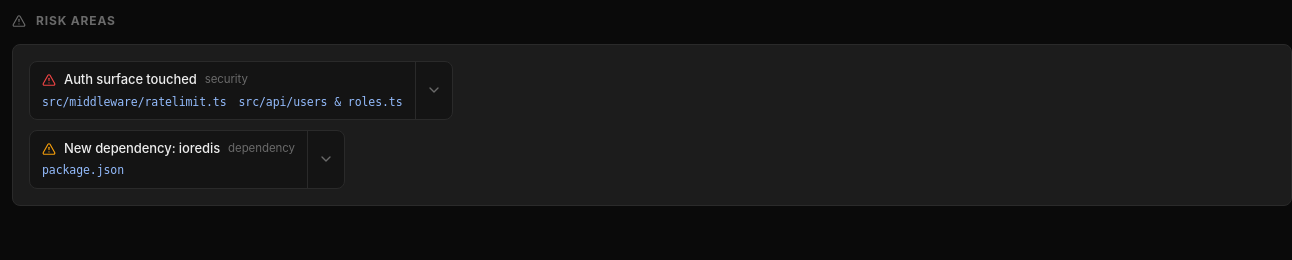
Scenario: BriefRiskAreas — the explanation › expands and collapses a risk's explanation from a button named after its title (AC-57, NFR-11)
The width and height of the screenshot is (1292, 260).
Expected: the text "The limiter runs before the session check." is not shown
Click the button named "Show explanation: Auth surface touched": {"x": 433, "y": 90} [414,62,452,119]
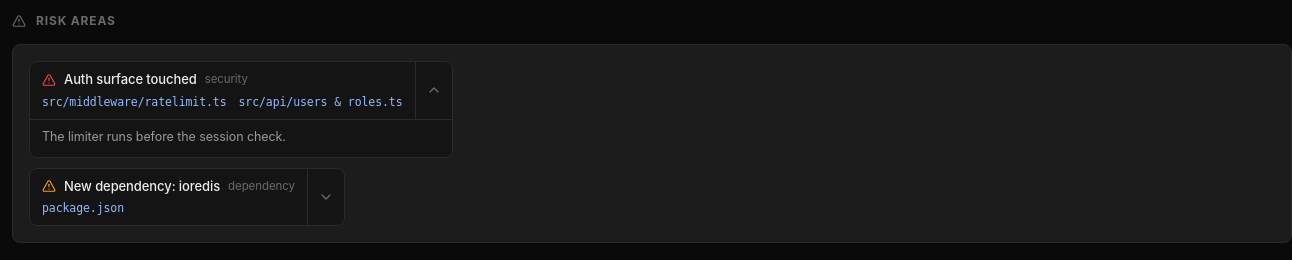
Now the text "The limiter runs before the session check." is shown, box [30,119,452,157]
Click the button named "Hide explanation: Auth surface touched": {"x": 433, "y": 90} [414,62,452,119]
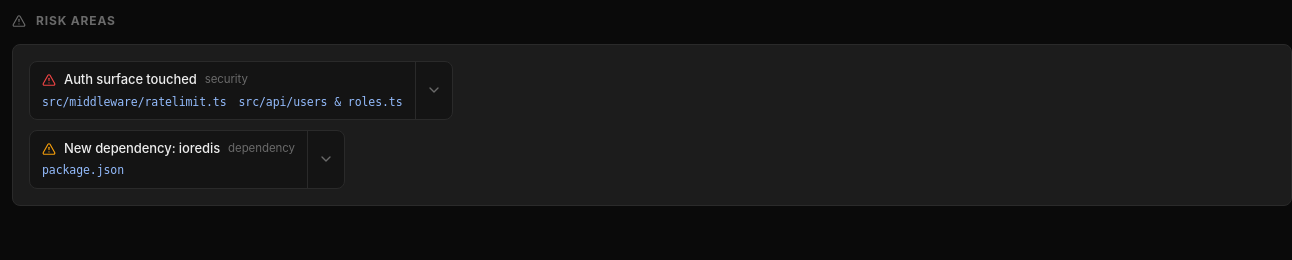
Now the text "The limiter runs before the session check." is gone
